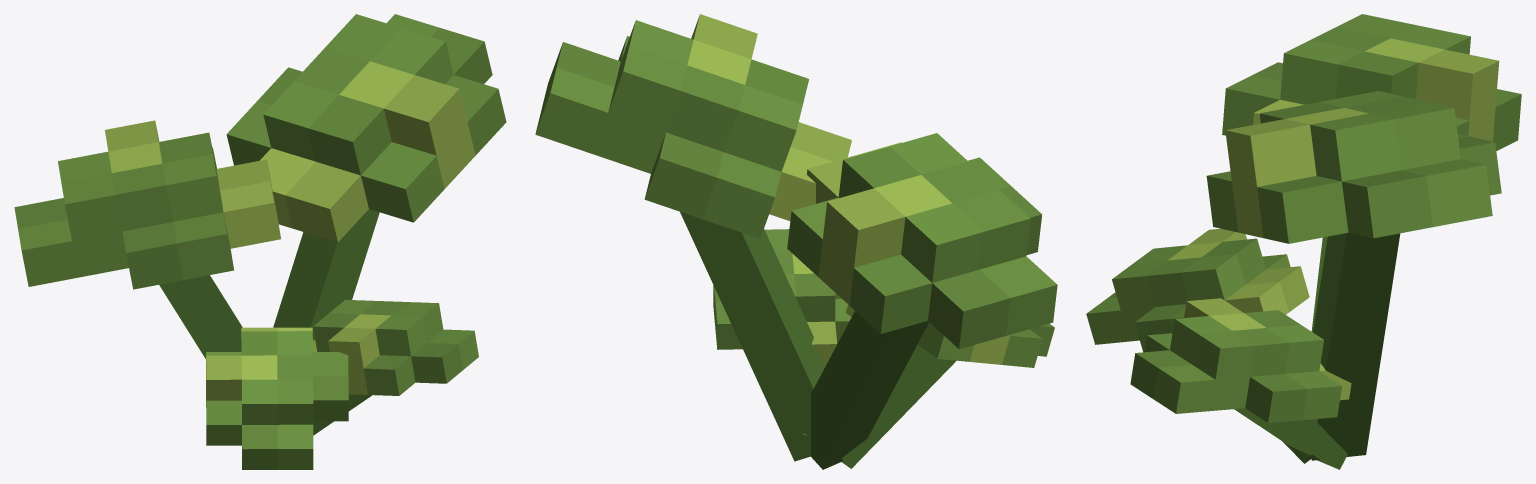
Rendered from SM_VMF_Crop_Potato_Seedling.fbx.
3 renders of one model, left to right at view 1: azimuth 30°, elevation 25°; view 2: azimuth 150°, elevation 25°; view 3: azimuth 270°, elevation 25°, orthographic. The views are drawn at different scales.
Parts seen in each view (by area): view 1: SM_VMF_Crop_Potato_Seedling_Leaves, SM_VMF_Crop_Potato_Seedling_Stems; view 2: SM_VMF_Crop_Potato_Seedling_Leaves, SM_VMF_Crop_Potato_Seedling_Stems; view 3: SM_VMF_Crop_Potato_Seedling_Leaves, SM_VMF_Crop_Potato_Seedling_Stems.
Part boxes in pixels (x1,y1,x2,y2): SM_VMF_Crop_Potato_Seedling_Leaves: [14, 14, 506, 469]; SM_VMF_Crop_Potato_Seedling_Stems: [159, 209, 379, 435]; SM_VMF_Crop_Potato_Seedling_Leaves: [535, 14, 1057, 367]; SM_VMF_Crop_Potato_Seedling_Stems: [680, 212, 956, 469]; SM_VMF_Crop_Potato_Seedling_Leaves: [1086, 14, 1521, 422]; SM_VMF_Crop_Potato_Seedling_Stems: [1234, 232, 1400, 469].
Bounding box in the file's own units: 34.05 × 25.15 × 23.39.
1 material, 1 textured.
